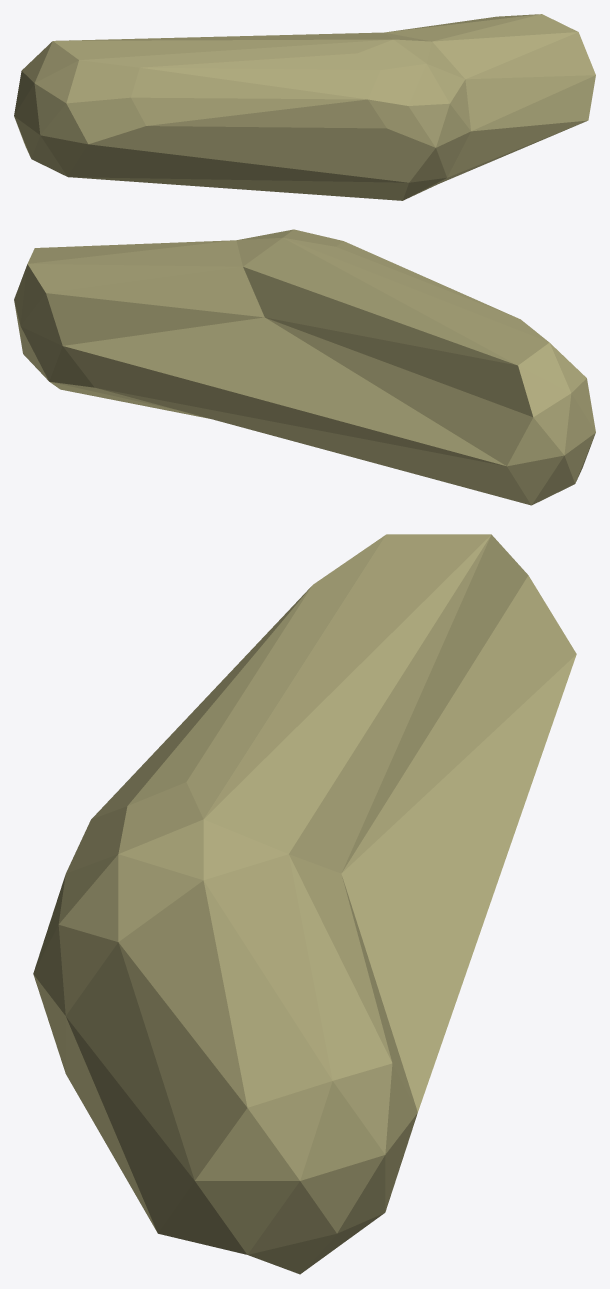
3 views of the same model, one above another, from view 1: azimuth 30°, elevation 25°; view 2: azimuth 150°, elevation 25°; view 3: azimuth 270°, elevation 25° (orthographic). The views are drawn at different scales.
Parts seen in each view (by area): view 1: Asteroid 2; view 2: Asteroid 2; view 3: Asteroid 2.
Boxes of the visible parts, x1=… form: Asteroid 2: x1=14, y1=14, x2=595, y2=200; Asteroid 2: x1=14, y1=229, x2=595, y2=505; Asteroid 2: x1=33, y1=534, x2=576, y2=1274.
Size of the model in its own units: 688 by 215 by 319.
